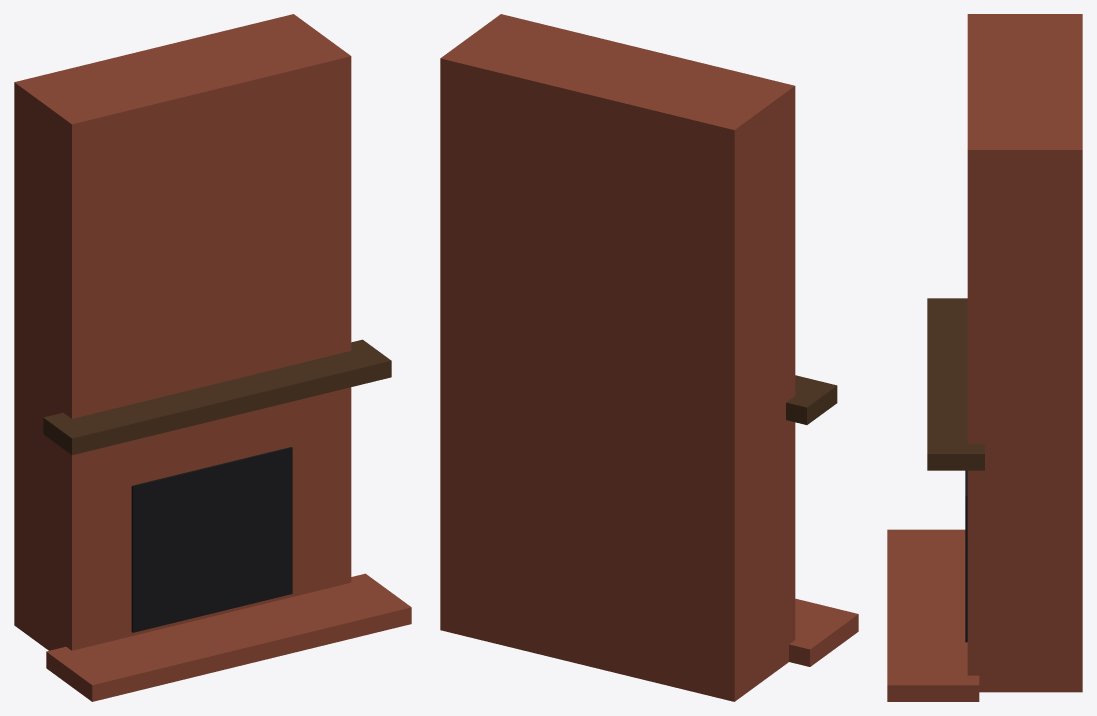
Rendered from fireplace.glb.
3 views of the same model, side by side, from view 1: azimuth 30°, elevation 25°; view 2: azimuth 150°, elevation 25°; view 3: azimuth 270°, elevation 25° (orthographic). The views are drawn at different scales.
Parts seen in each view (by area): view 1: fireplace; view 2: fireplace; view 3: fireplace.
Part boxes in pixels (bbox=[...]): fireplace: bbox=[14, 14, 411, 701]; fireplace: bbox=[440, 14, 858, 701]; fireplace: bbox=[887, 14, 1082, 701].
Bounding box in the file's own units: 1.6 × 2.6 × 0.85.
